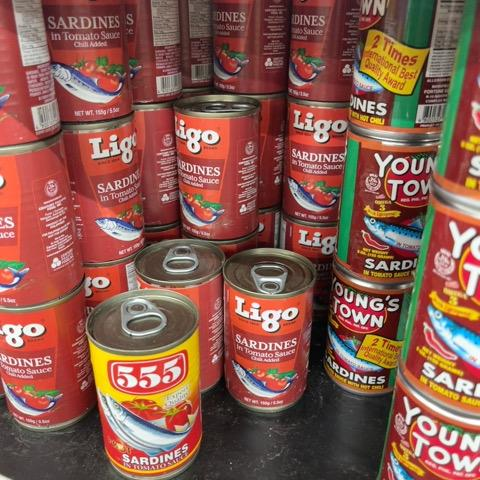canned-goods: (82, 287, 209, 480), (333, 119, 446, 294), (217, 245, 319, 412), (172, 88, 267, 243), (133, 237, 226, 289)
